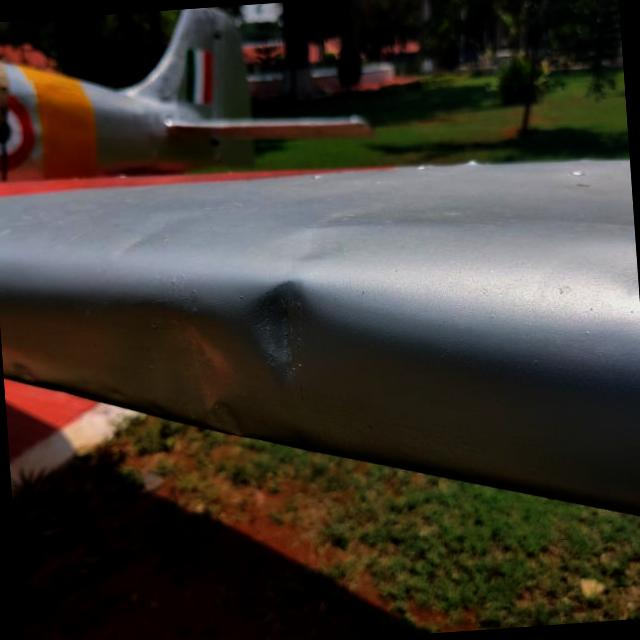dent: (123, 286, 259, 442), (246, 280, 309, 380)
